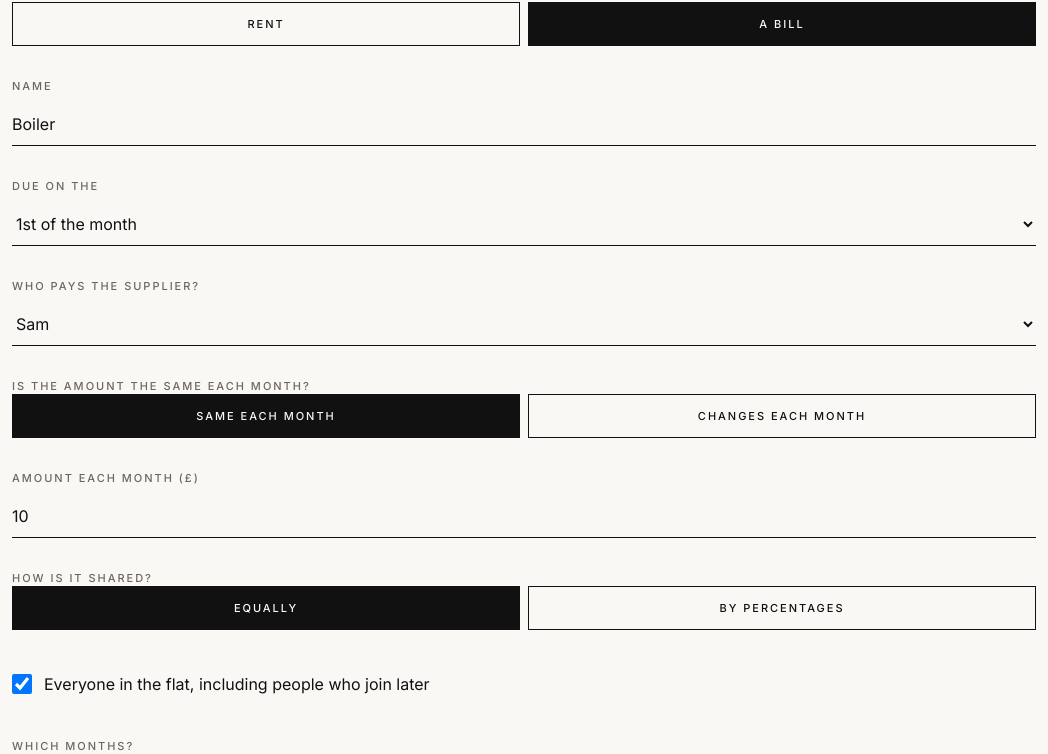
Test: TemplateForm: a bill › asks for a percentage for each person and says what is wrong when they do not add up
Step 1. Click the button "By percentages" → (782, 608), box [528, 586, 1036, 630]
(page scrolled)
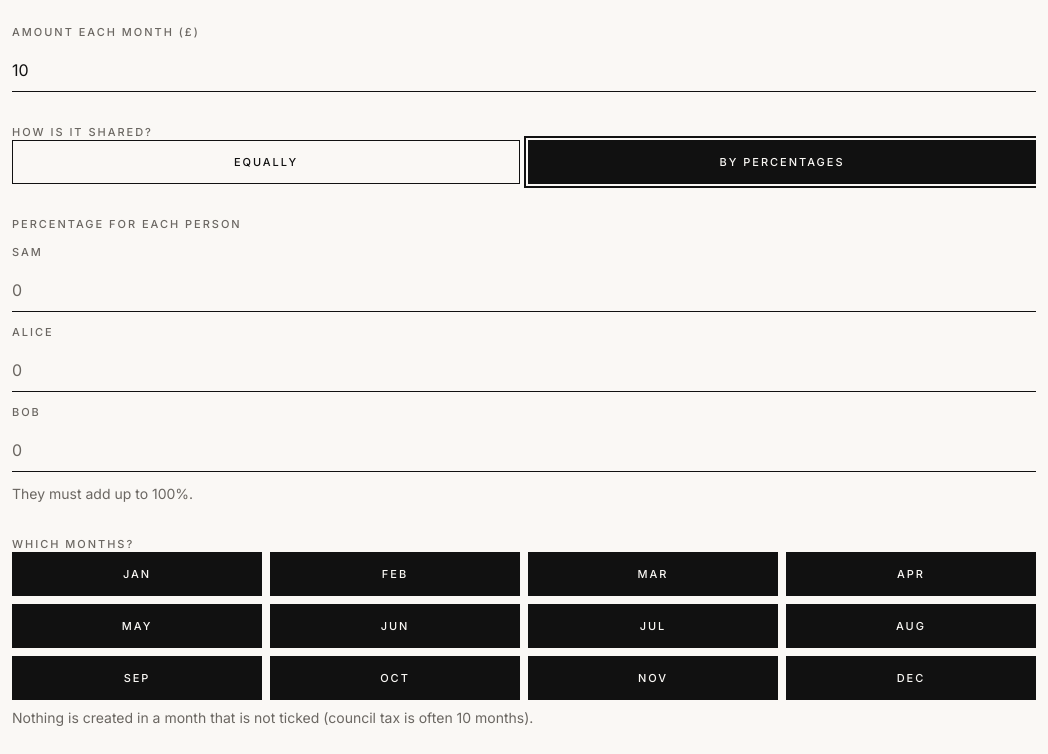
Step 2. Type "60" into the field labelled "Alice" → (524, 370), box [12, 348, 1036, 392]
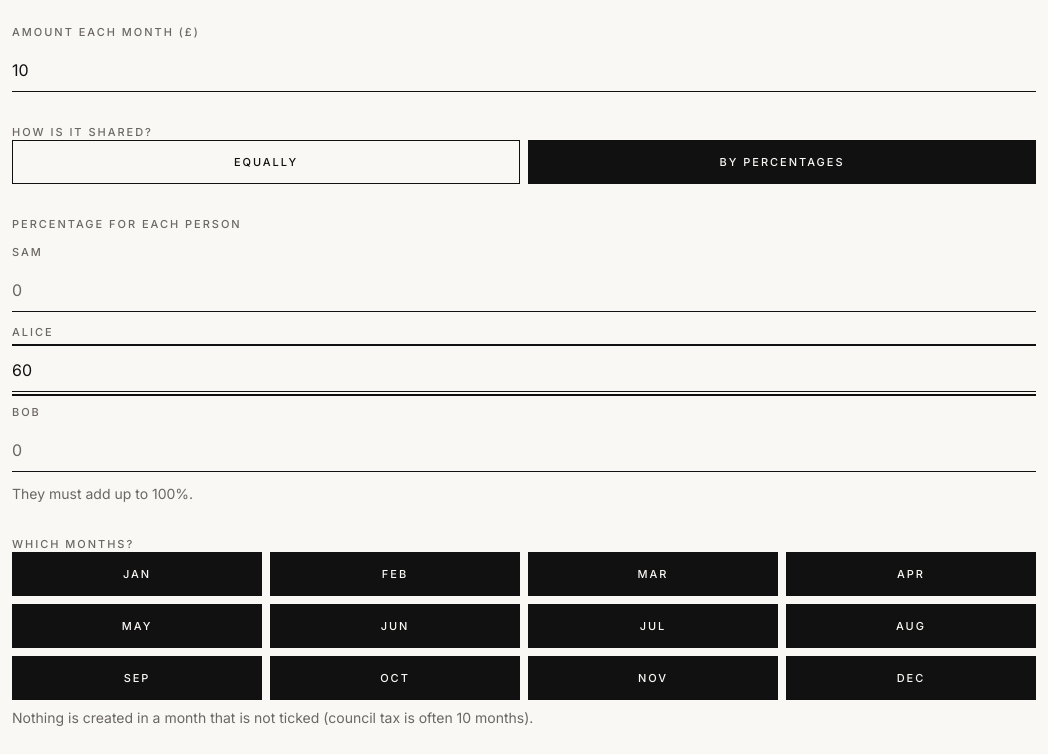
Step 3. Type "30" into the field labelled "Bob" → (524, 450), box [12, 428, 1036, 472]
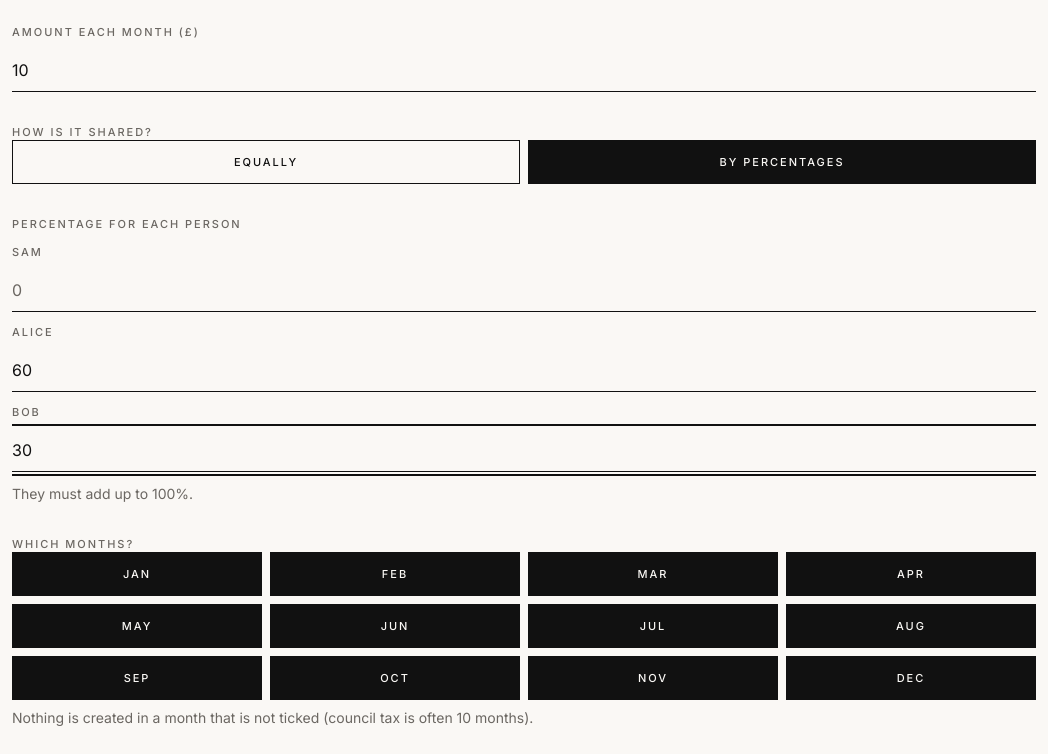
Step 4. Replace the text in the field labelled "Bob" with "40" → (524, 450), box [12, 428, 1036, 472]
(page scrolled)
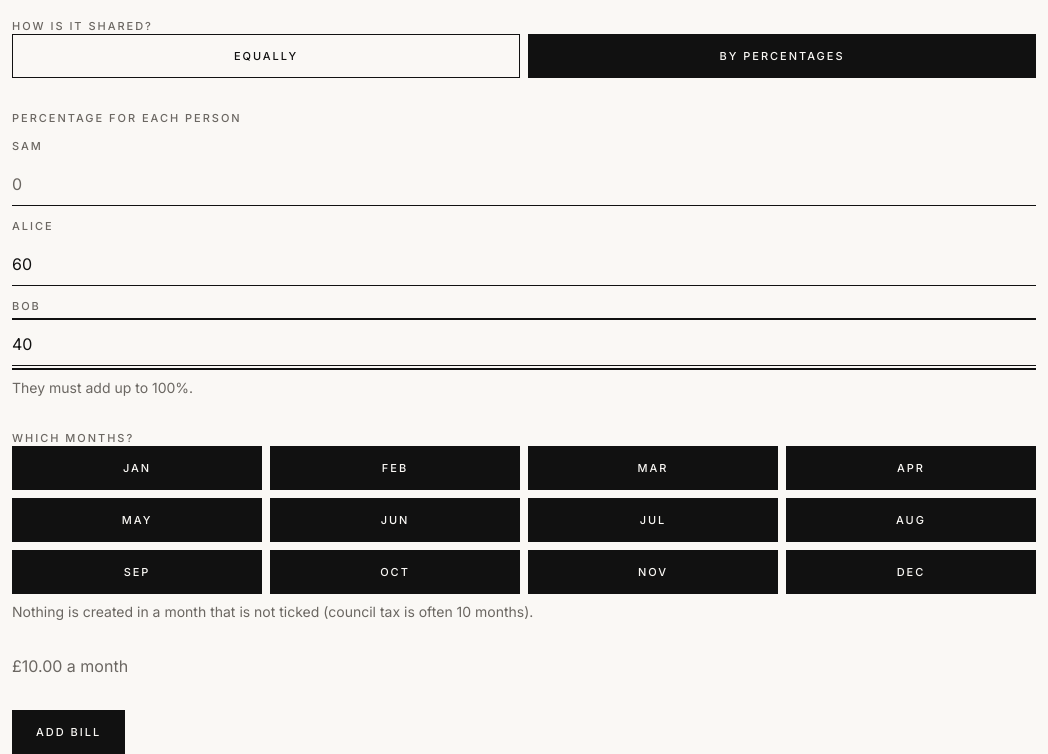
Expected: the button "Add bill" is enabled, [12, 710, 125, 753]
